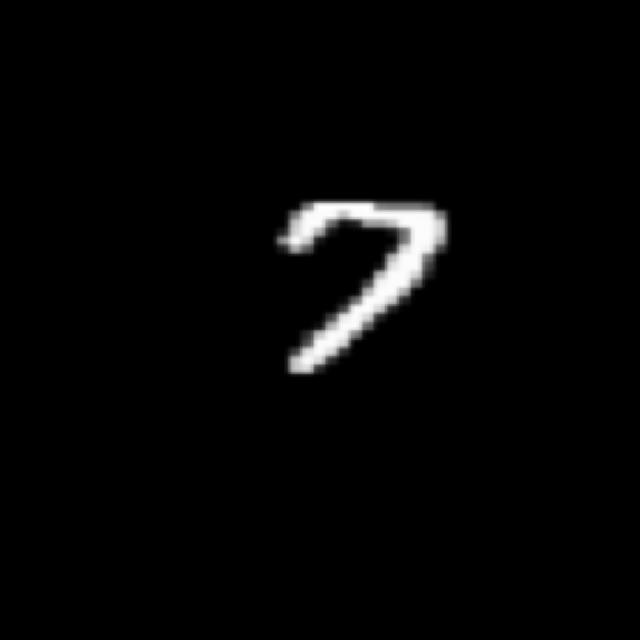seven -7-: (269, 194, 452, 380)
